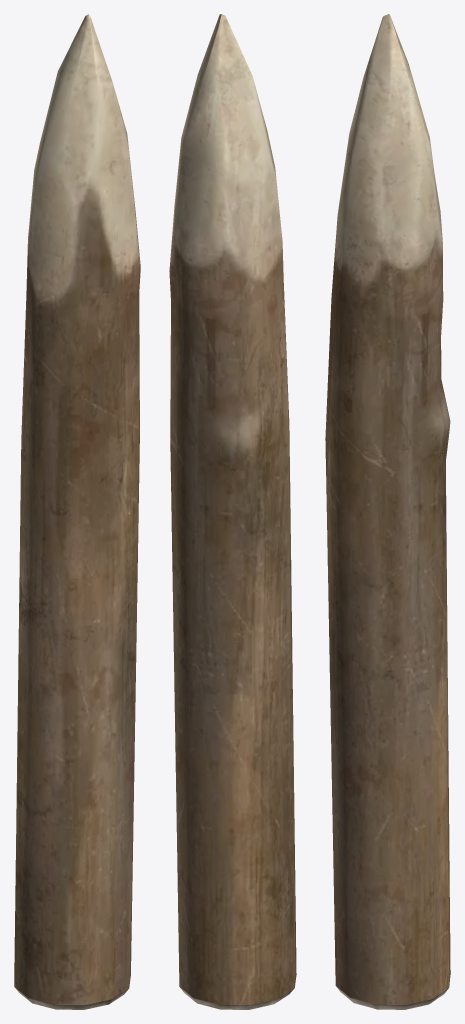
The picture shows the model from 3 angles, left to right: view 1: azimuth 30°, elevation 25°; view 2: azimuth 210°, elevation 25°; view 3: azimuth 270°, elevation 25°; orthographic projection.
Parts seen in each view (by area): view 1: SM_Garou_Set_SM_Spike_04_02_LOD0; view 2: SM_Garou_Set_SM_Spike_04_02_LOD0; view 3: SM_Garou_Set_SM_Spike_04_02_LOD0.
Boxes of the visible parts, <box> form: SM_Garou_Set_SM_Spike_04_02_LOD0: <box>14,14,140,1009</box>; SM_Garou_Set_SM_Spike_04_02_LOD0: <box>169,14,296,1009</box>; SM_Garou_Set_SM_Spike_04_02_LOD0: <box>325,14,450,1009</box>.
Bounding box in the file's own units: 0.2162 × 1.84 × 0.2125.
Materials: 1 (1 with a texture image).
